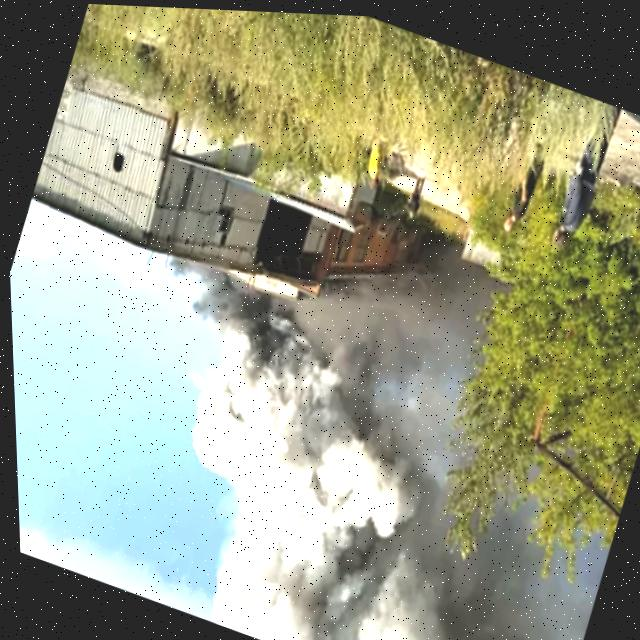Smoke: (60, 242, 640, 640)
